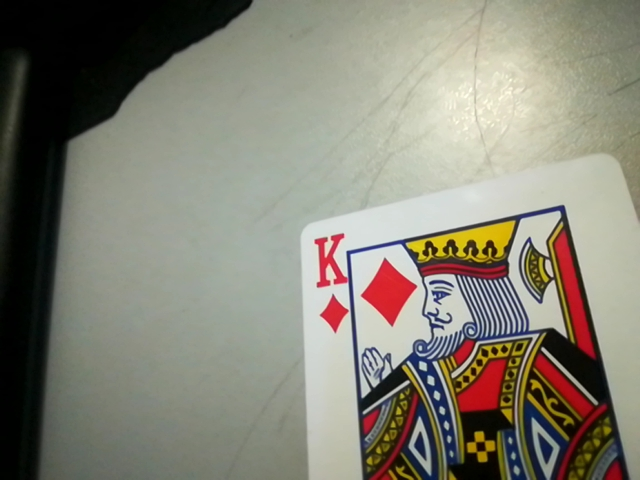fk k: (304, 227, 355, 334)
